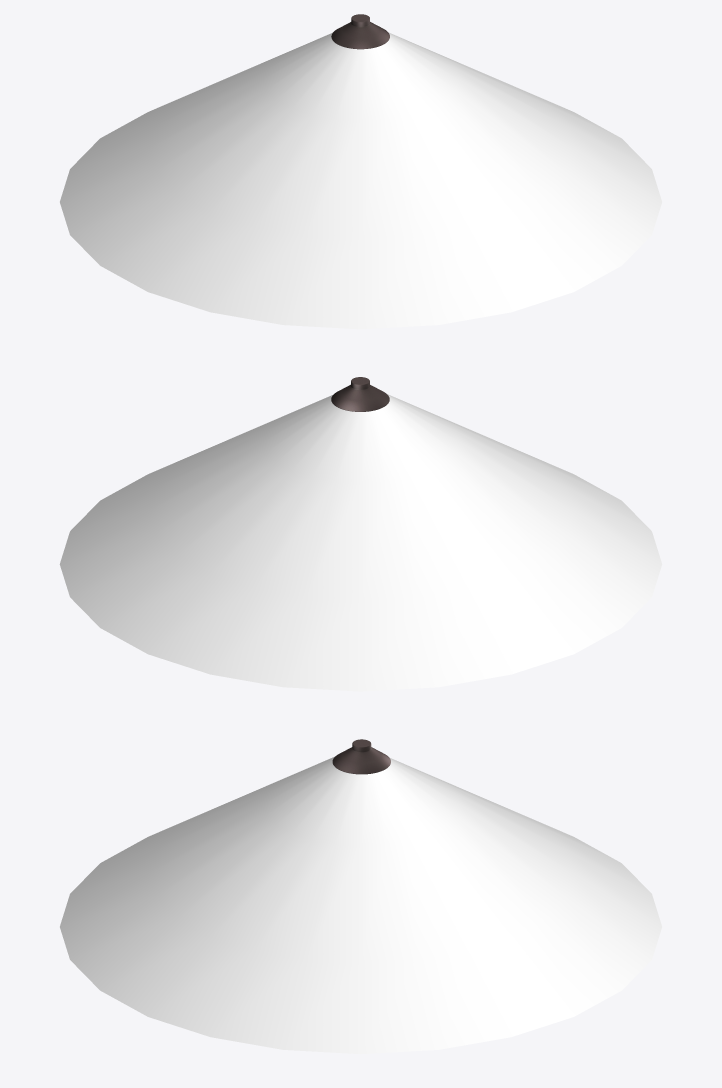
File: Tiki Path Light_New.fbx
3 views of the same model, one above another, from view 1: azimuth 30°, elevation 25°; view 2: azimuth 150°, elevation 25°; view 3: azimuth 270°, elevation 25° (orthographic).
Visible parts, largest first — view 1: Cone001, Tiki Path Light; view 2: Cone001, Tiki Path Light; view 3: Cone001, Tiki Path Light.
Boxes of the visible parts, x1,y1,x2,y2 form: Cone001: (60, 32, 661, 329); Tiki Path Light: (331, 14, 389, 49); Cone001: (59, 394, 662, 691); Tiki Path Light: (331, 377, 389, 411); Cone001: (60, 756, 661, 1054); Tiki Path Light: (332, 739, 390, 774).
Size of the model in its own units: 198 by 57.75 by 198.
Materials: 3 (3 with a texture image).
